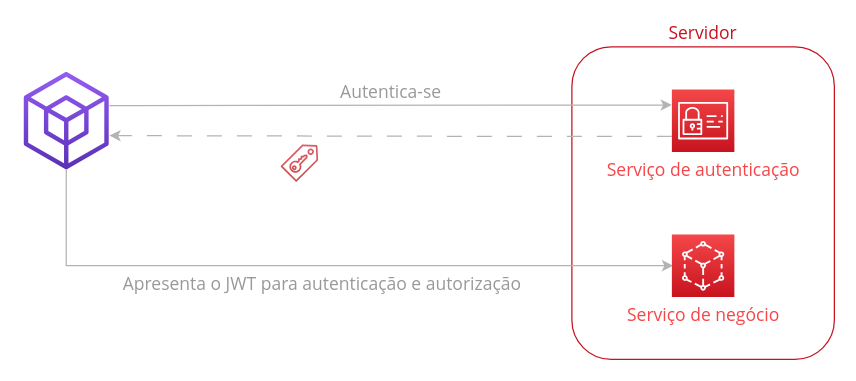
The diagram is 856 pixels wide and 381 high, and some of its shapes have lost their labels. The shapes that lost their labels are listed below. From the top down, each one's centre as x and y in pixels, then its label:
At point (65, 120): "Aplicação".
At point (299, 162): "Retorna um JWT".
